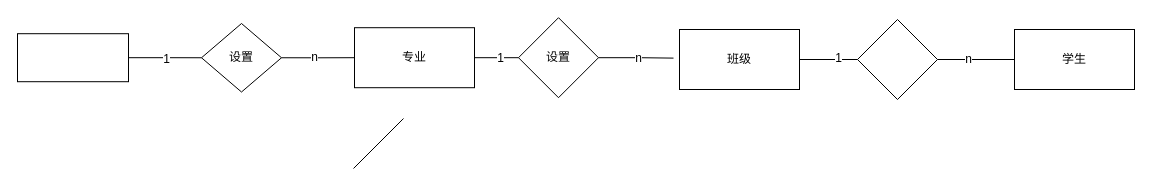
Some shapes in this 1152 by 187 pixel diagram are drawn without their labels. The centre of each missing label's shape, as x and y in pixels:
"包含" goes at point 897,59.
"学院" goes at point 72,57.
